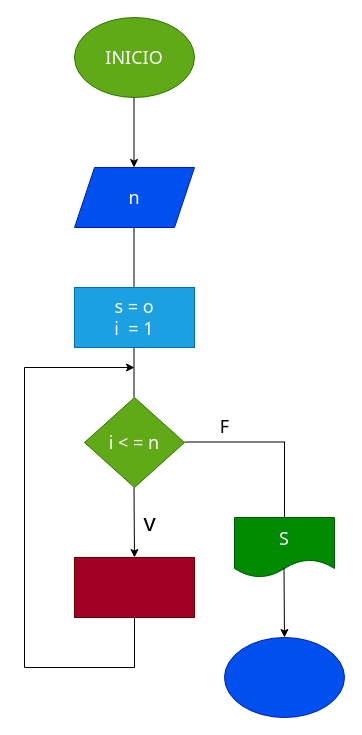
Some shapes in this 362 by 735 pixel diagram are drawn without their labels. The box of each missing label's shape, as (x1, y1, x2, y2) in pixels:
FIN: (224, 636, 344, 718)
s = s + i i = i +1: (74, 556, 194, 618)
